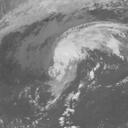cyclone: (49, 20, 120, 86)
